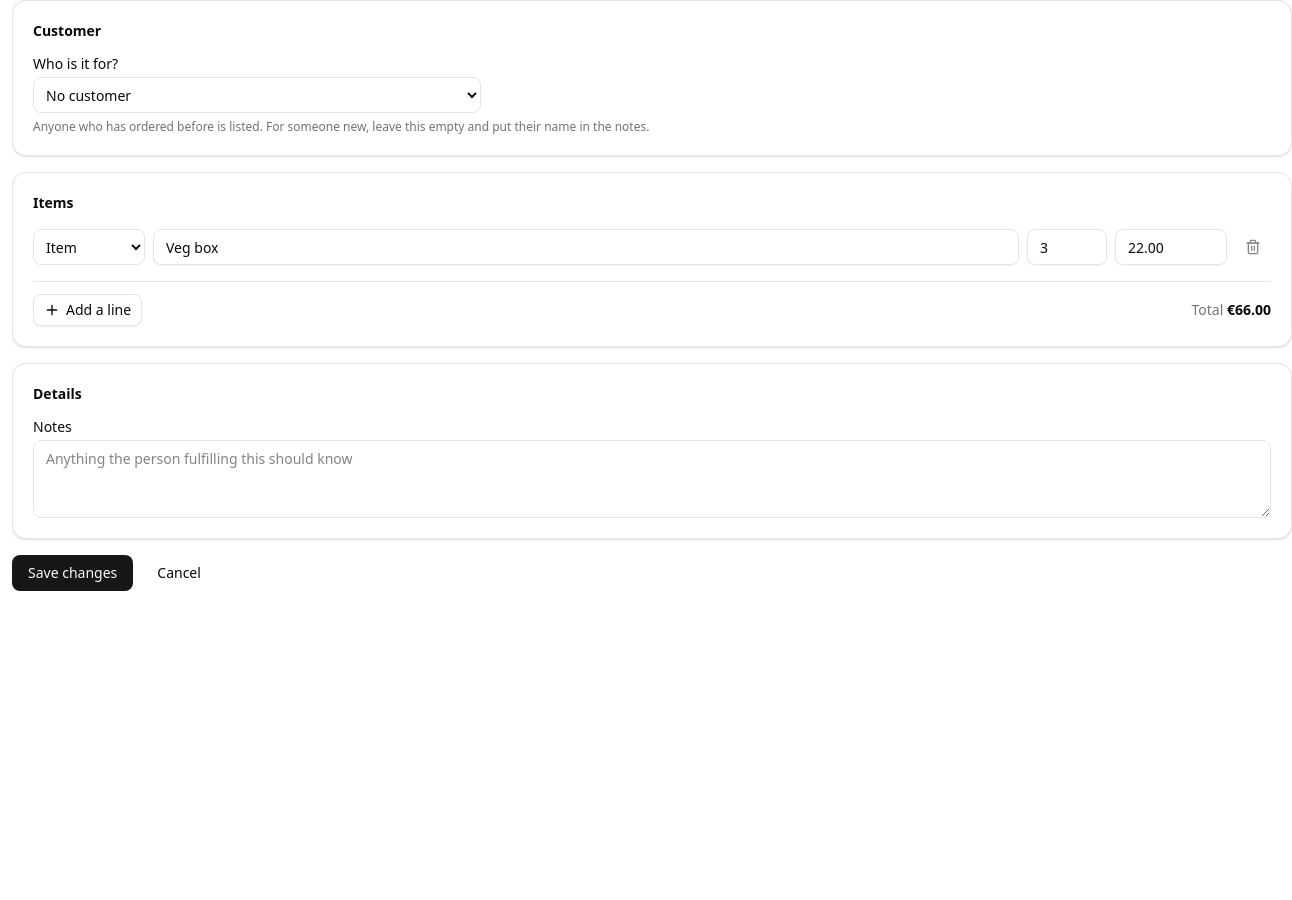
Test: OrderEditor › shows the server's reason when the save is refused, and lets it be retried
Click the button "Save changes" at (73, 573), box top-left (12, 555), bottom-right (133, 591)
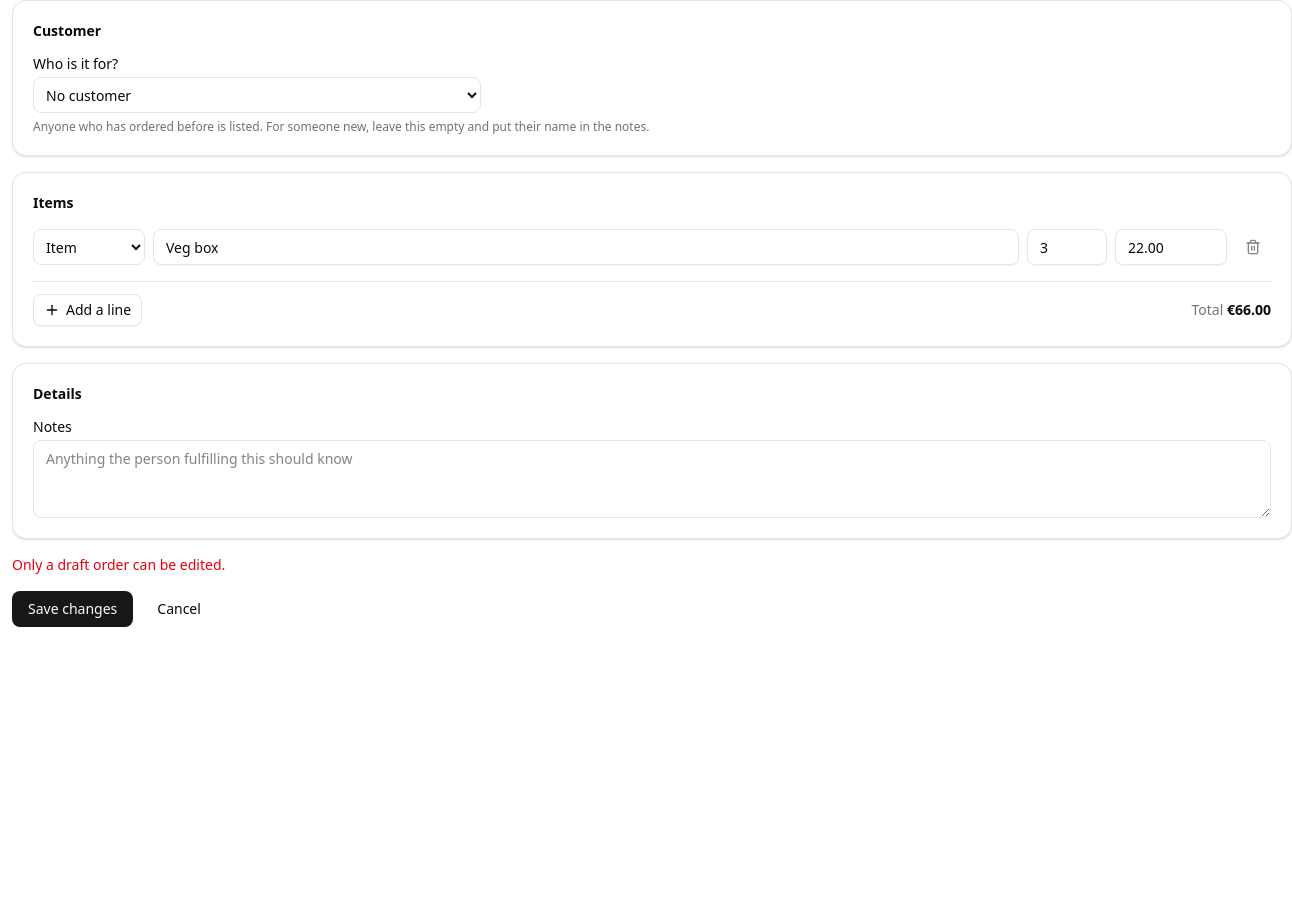
Check: the button "Save changes" is enabled, box top-left (12, 591), bottom-right (133, 627)
Check: the message reads "Only a draft order can be edited.", box top-left (12, 555), bottom-right (225, 574)
